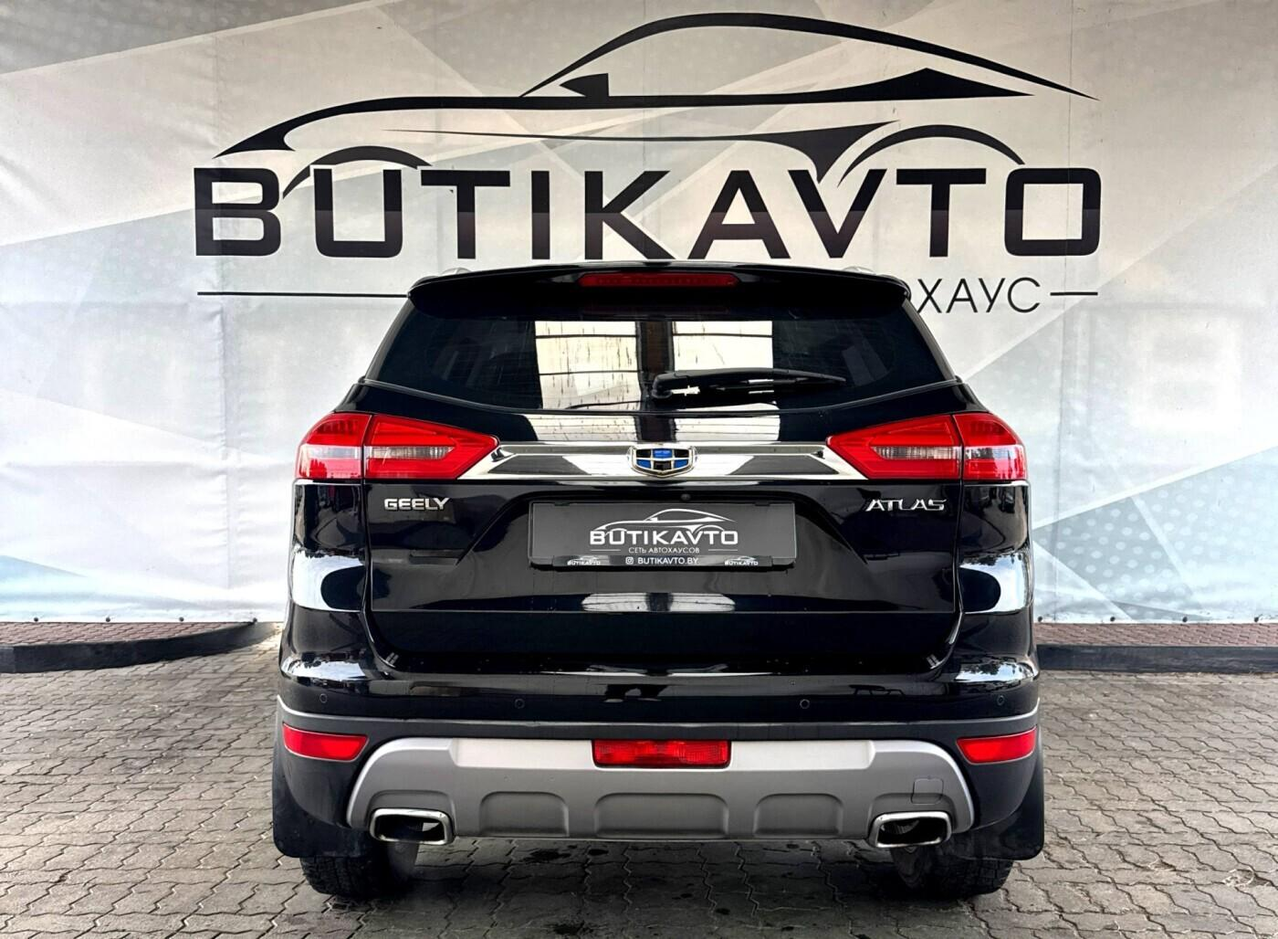Atlas_2016-2023: (262, 254, 1056, 907)
